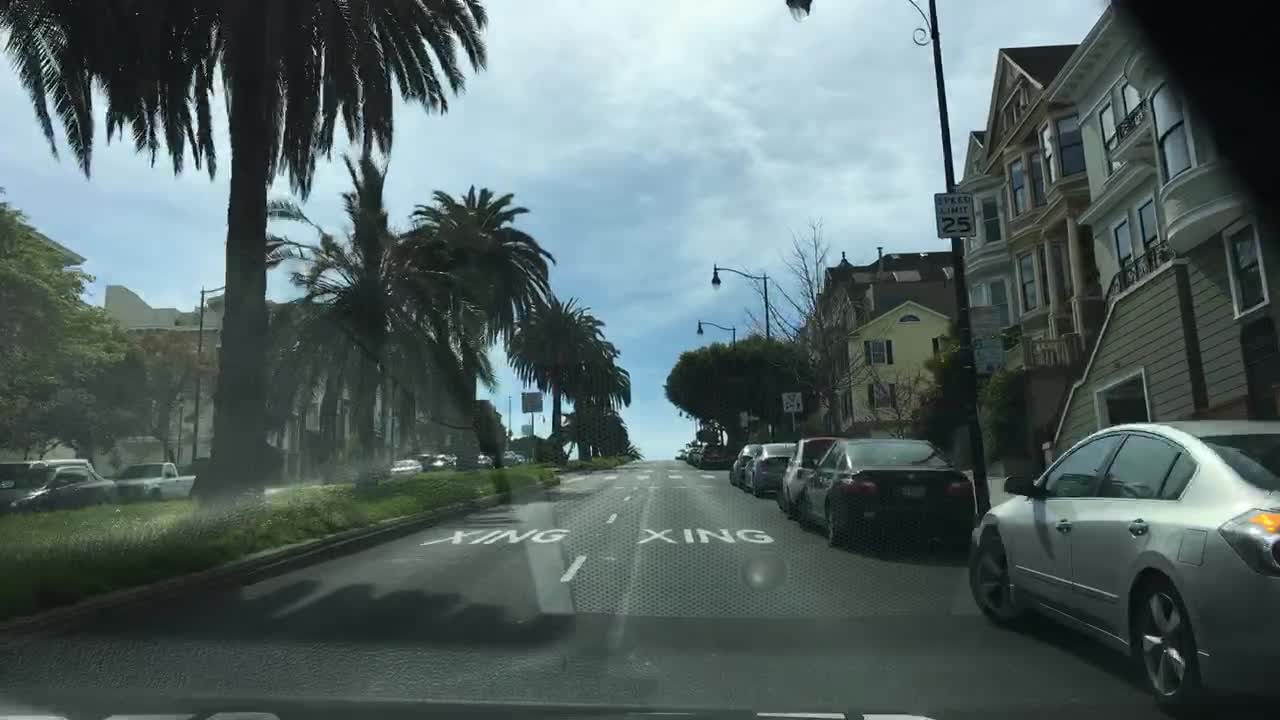car: (968, 419, 1278, 714), (793, 437, 977, 554), (776, 437, 846, 518), (1, 465, 118, 508), (0, 456, 88, 504), (741, 442, 797, 496), (729, 442, 763, 486), (696, 445, 735, 468), (384, 458, 425, 473), (421, 454, 448, 471), (685, 442, 702, 464), (503, 448, 517, 468), (477, 453, 494, 468), (413, 450, 431, 463), (675, 447, 686, 460), (515, 452, 526, 464), (448, 456, 458, 467), (490, 453, 498, 464)
traffic sign: (935, 193, 975, 239), (778, 391, 803, 411), (521, 390, 543, 412), (737, 409, 747, 426)
truck: (116, 460, 197, 501)
